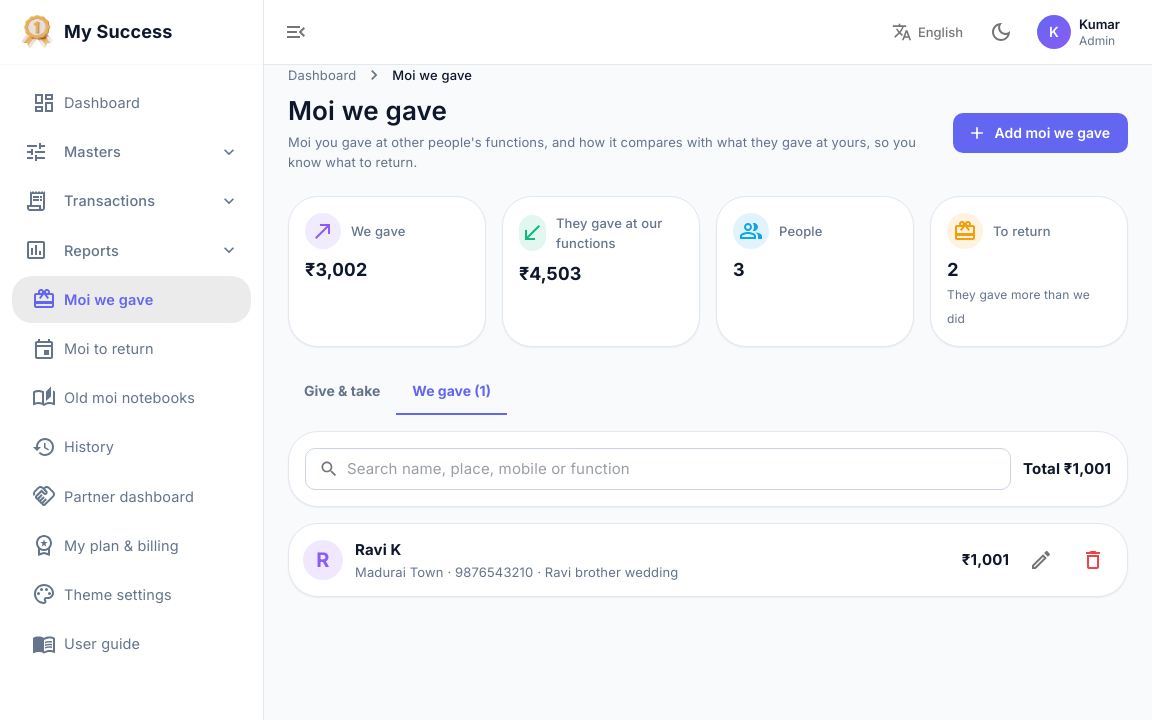
it: Moi we gave › adds an entry with the function name and date
Later steps or results of the test are not shown.
expect the text "Ravi K" is shown: met, box [355,540,402,559]
Click the button "Add moi we gave": [1040, 133] box [952,113,1128,153]
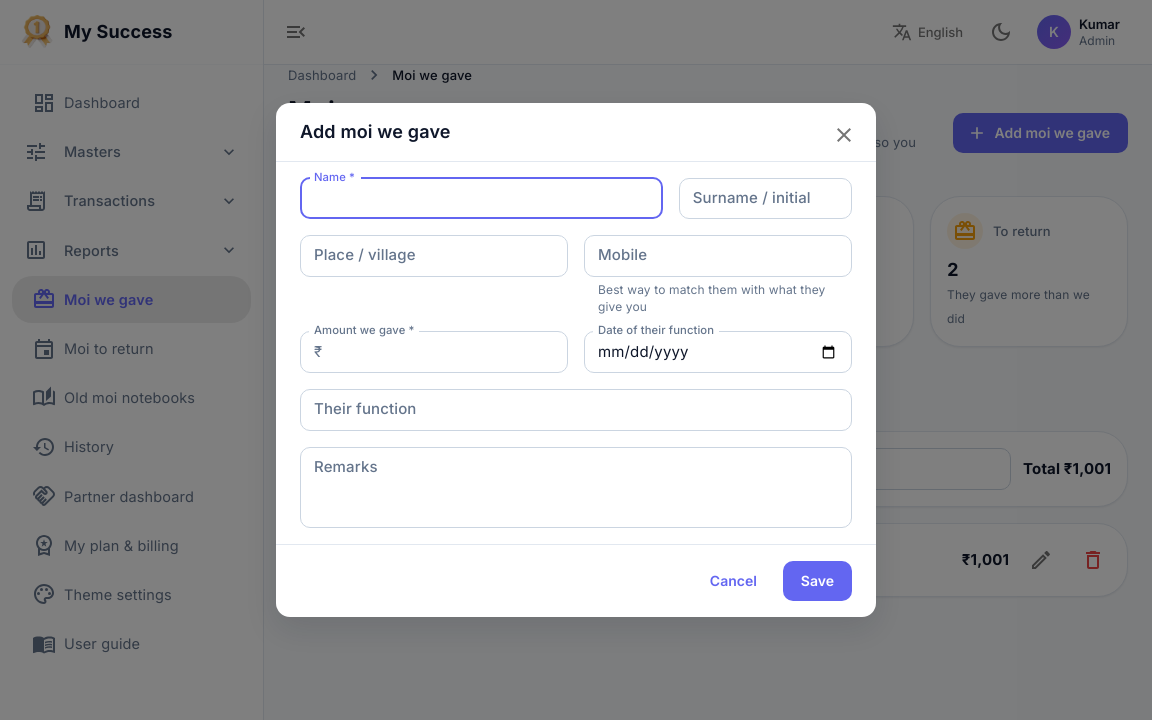
Click the button "Save": [817, 581] box [783,561,852,601]
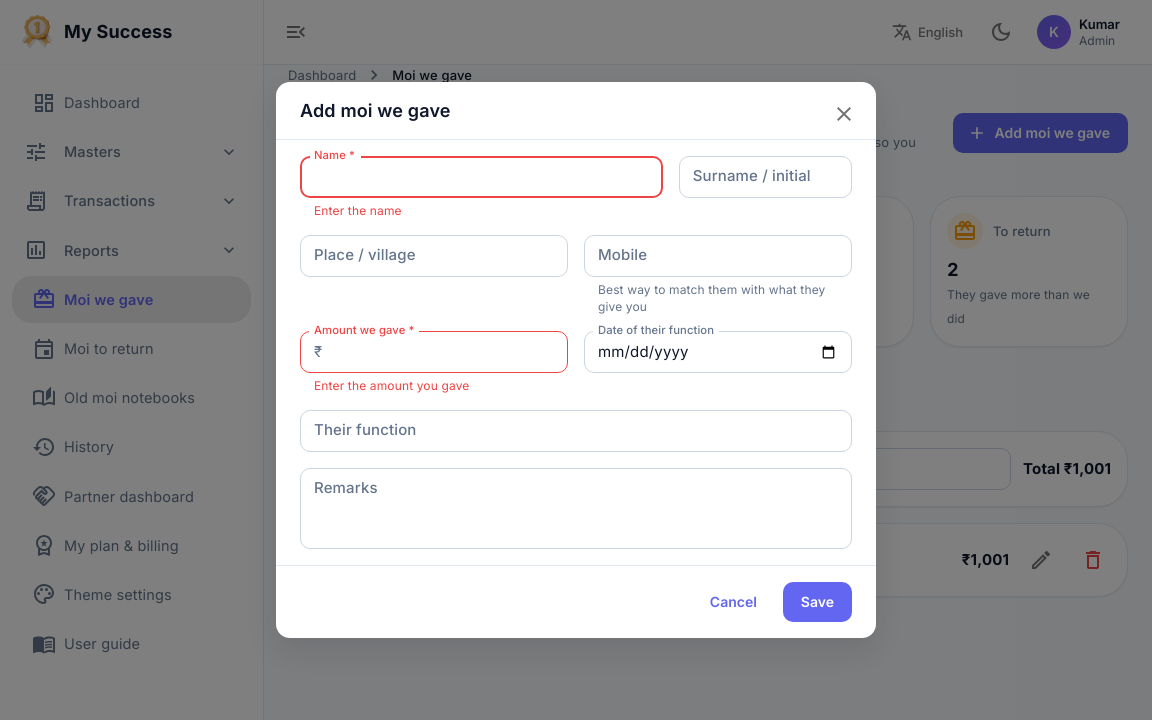
expect the text "Enter the name" is shown: met, box [314,203,402,218]
